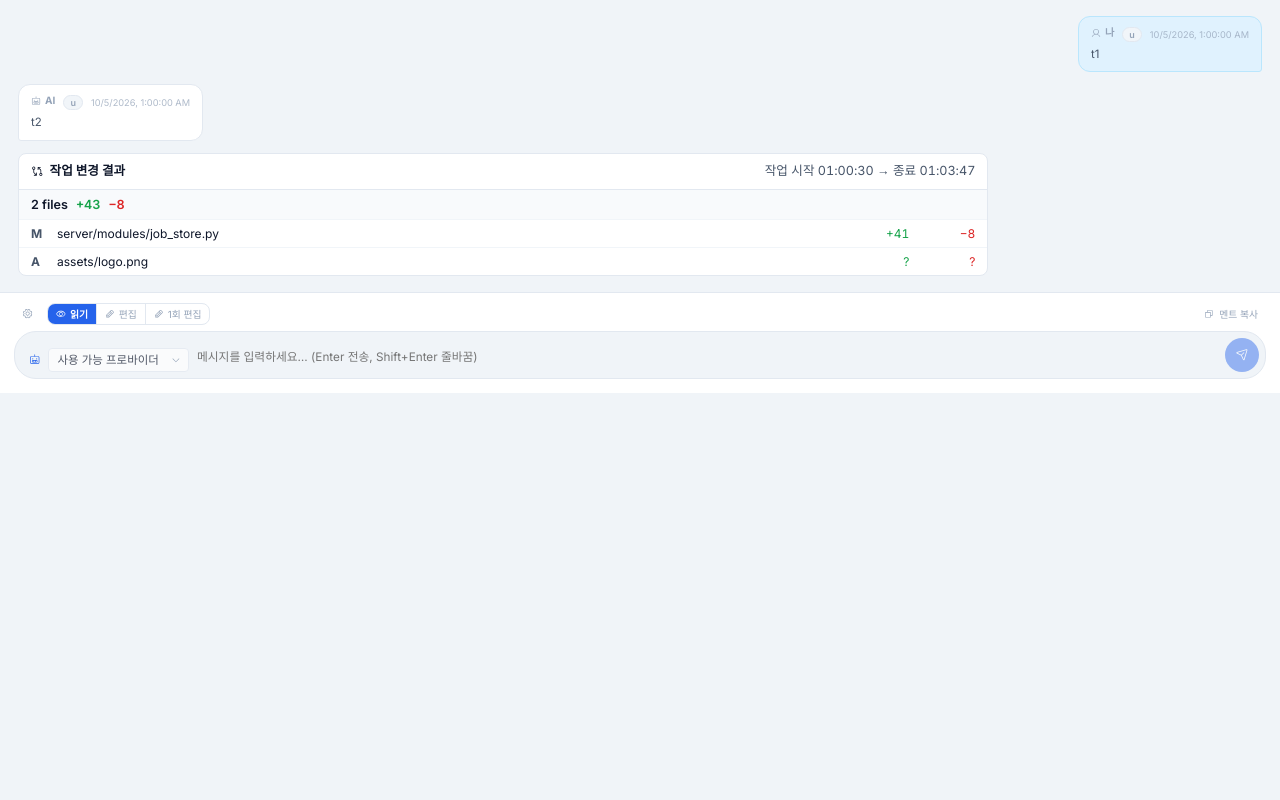
it: run change summary › opens the existing change viewer on the clicked file and reads the run diff
Click the button with class "crc-file" that starts with "server/modules/job_store.py" at (138, 233), box [19,219,987,247]
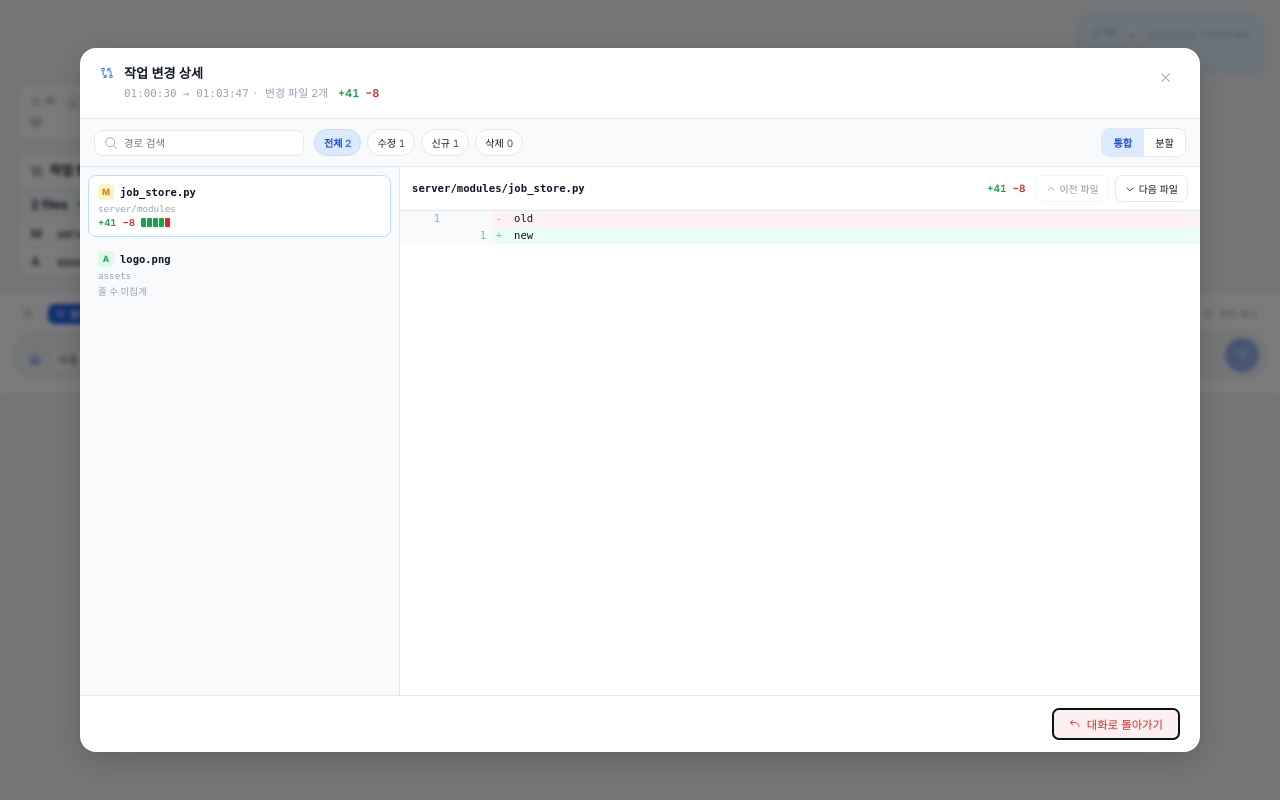
Result: the text "작업 변경 상세" is shown at [124,65,203,81]
